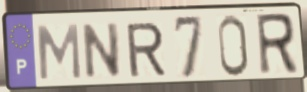0: (216, 13, 251, 79)
7: (172, 14, 205, 81)
M: (35, 22, 84, 82)
N: (82, 20, 123, 82)
R: (254, 11, 300, 78), (124, 20, 168, 80)
